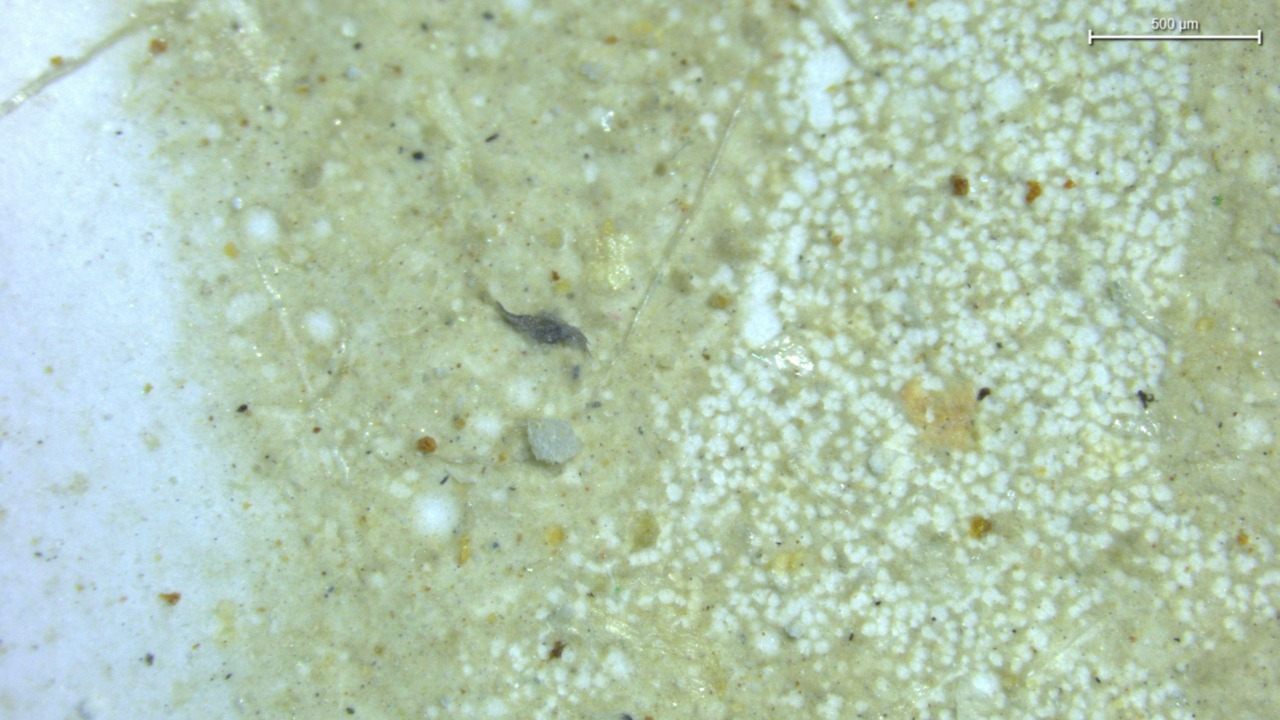microplastic_fragment: (492, 301, 587, 352), (527, 418, 580, 463)
